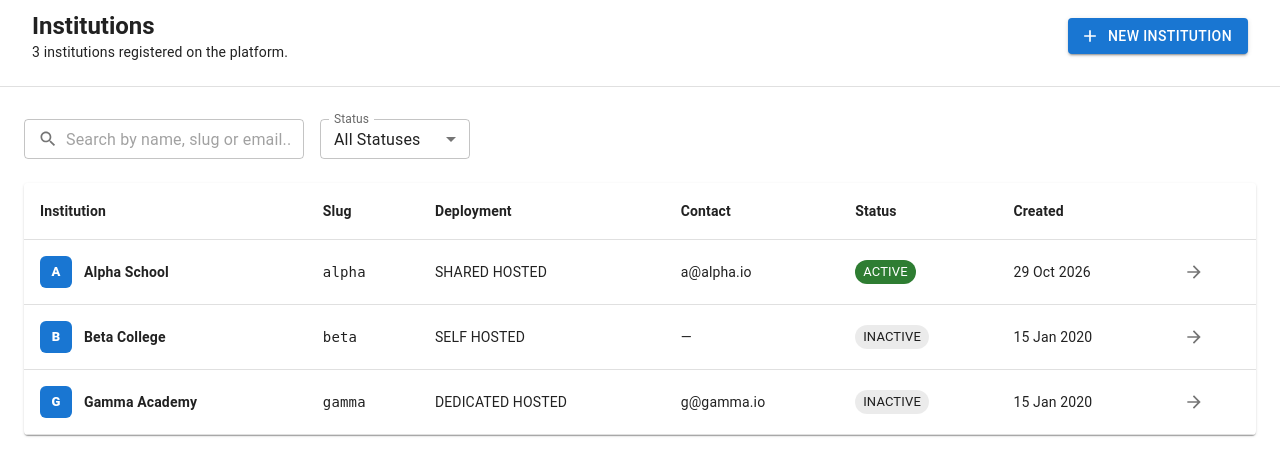
Test: Institutions list page › lists institutions and filters by name, slug or email
Expected: the text "Alpha School" is shown, [84,262,169,282]
Expected: the text "3 institutions registered on the platform." is shown, [32,42,288,62]
Type "gamma.io" into the field with placeholder "Search by name, slug or email..." at [185, 139], box [66,119,304,159]
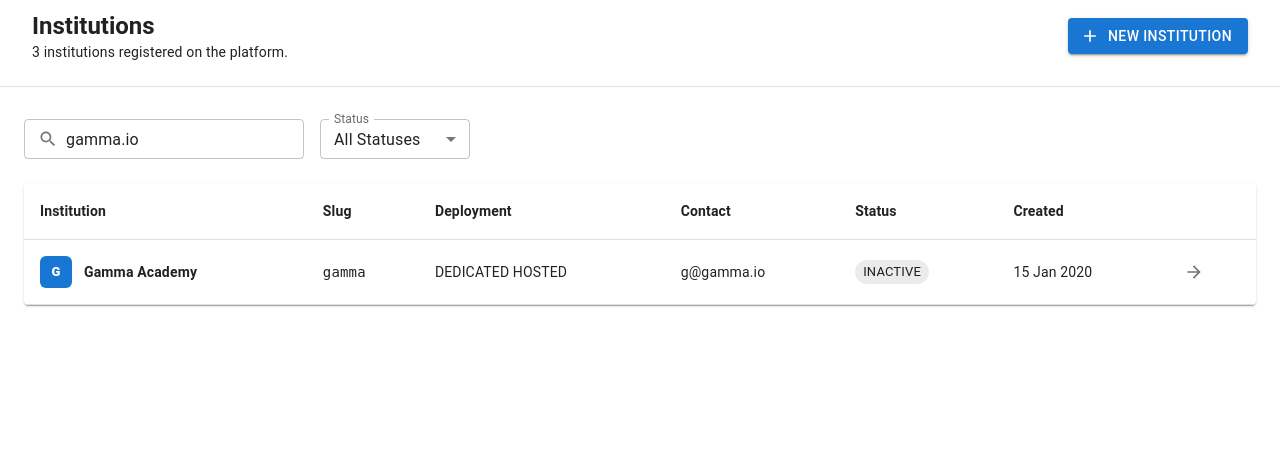
Expected: the text "Gamma Academy" is shown, [84,262,197,282]
Expected: the text "Alpha School" is gone
Replace the text in the field with placeholder "Search by name, slug or email..." with "BETA" at [185, 139], box [66,119,304,159]
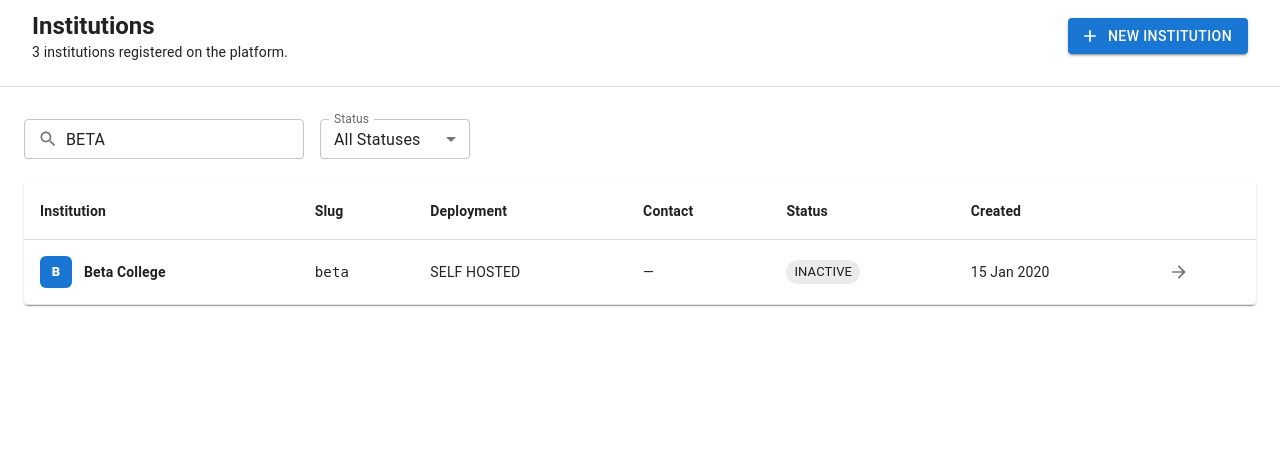
Expected: the text "Beta College" is shown, [84,262,166,282]
Replace the text in the field with placeholder "Search by name, slug or email..." with "zzz" at [185, 139], box [66,119,304,159]
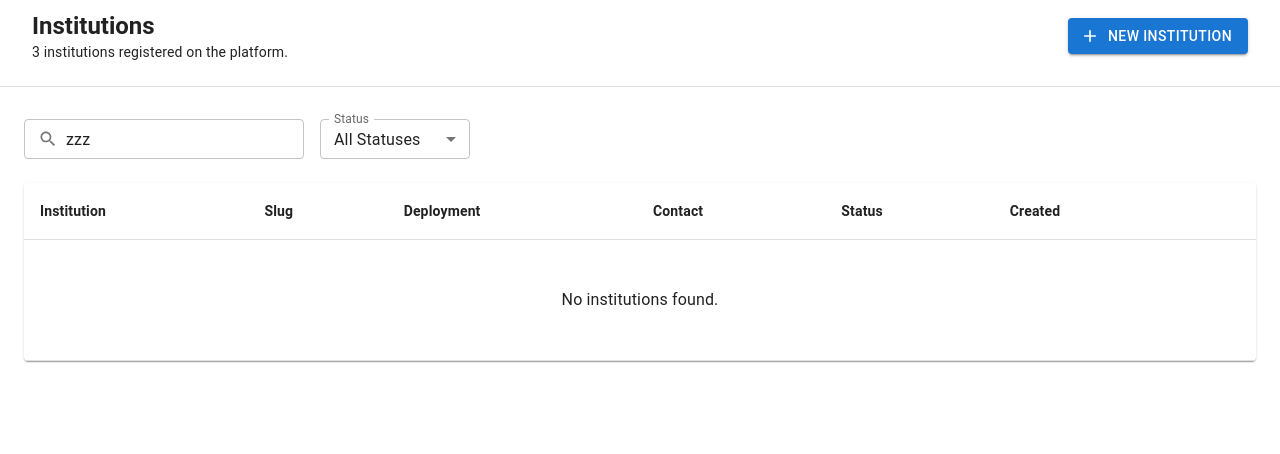
Expected: the text "No institutions found." is shown, [562,290,718,309]
